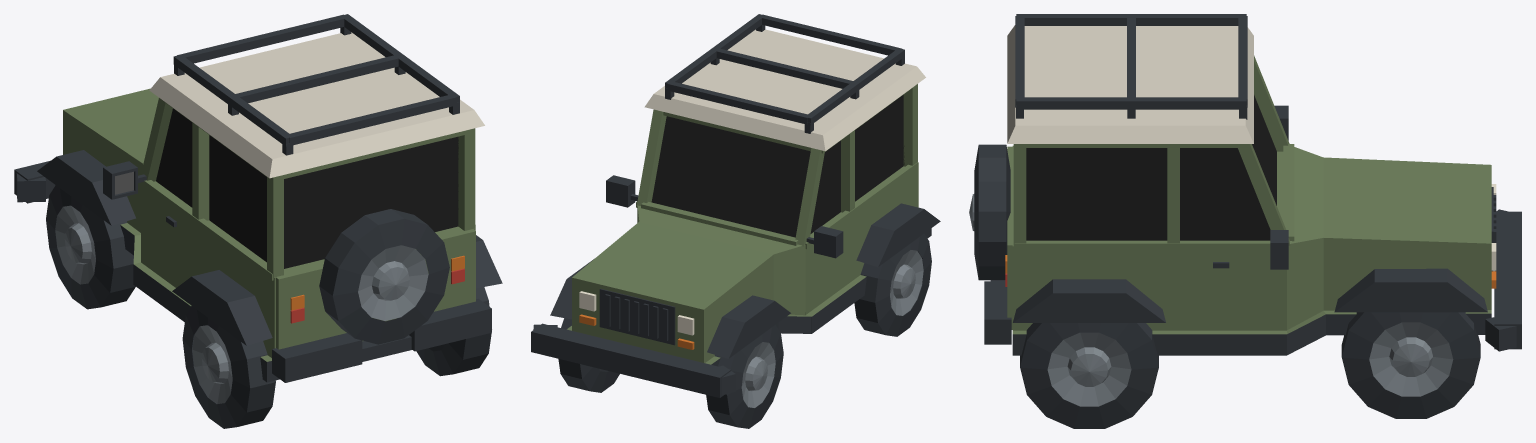
File: jeep1 (1).fbx
3 renders of one model, left to right at view 1: azimuth 30°, elevation 25°; view 2: azimuth 150°, elevation 25°; view 3: azimuth 270°, elevation 25°, orthographic. The views are drawn at different scales.
Visible parts, largest first — view 1: Center_Console, Cabin_Tub, Wheel_RL_Rim, Wheel_FL_Tire, CABIN, Wheel_RR_Tire; view 2: Center_Console, CABIN, Cabin_Tub, Wheel_RL_Rim, Wheel_FL_Tire, Wheel_FR_Tire; view 3: Center_Console, CABIN, Cabin_Tub, Wheel_FR_Tire, Wheel_RR_Tire.
Boxes of the visible parts, x1,y1,x2,y2 form: Center_Console: (14, 14, 502, 382); Cabin_Tub: (133, 181, 474, 382); Wheel_RL_Rim: (182, 306, 275, 428); Wheel_FL_Tire: (46, 185, 135, 309); CABIN: (55, 88, 158, 263); Wheel_RR_Tire: (416, 287, 491, 376); Center_Console: (531, 14, 940, 397); CABIN: (567, 205, 811, 366); Cabin_Tub: (637, 166, 919, 333); Wheel_RL_Rim: (854, 234, 931, 336); Wheel_FL_Tire: (706, 325, 783, 428); Wheel_FR_Tire: (558, 318, 619, 392); Center_Console: (969, 14, 1521, 351); CABIN: (1287, 147, 1491, 355); Cabin_Tub: (1012, 145, 1286, 355); Wheel_FR_Tire: (1341, 312, 1480, 418); Wheel_RR_Tire: (1020, 323, 1158, 428).
Bounding box in the file's own units: 178 × 188 × 302.
